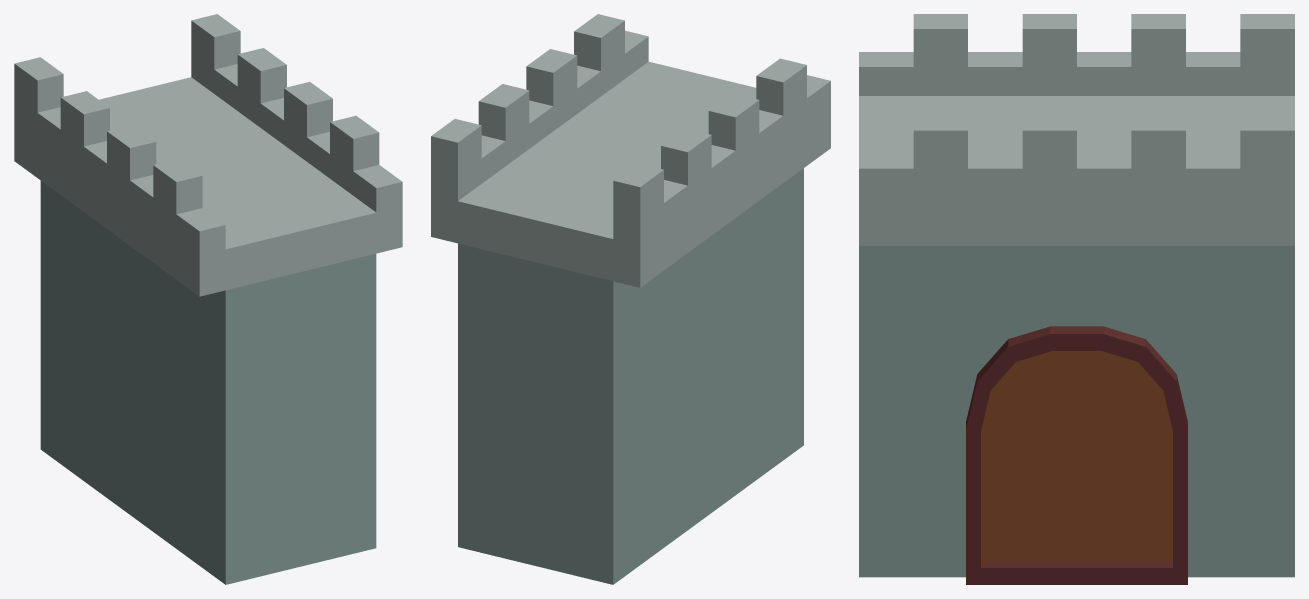
The model's file is WallWithDoor 1.fbx.
3 views of the same model, side by side, from view 1: azimuth 30°, elevation 25°; view 2: azimuth 150°, elevation 25°; view 3: azimuth 270°, elevation 25° (orthographic). The views are drawn at different scales.
Visible parts, largest first — view 1: Cube.002; view 2: Cube.002; view 3: Cube.002.
Boxes of the visible parts, x1,y1,x2,y2 form: Cube.002: (14,14,402,584); Cube.002: (431,14,830,584); Cube.002: (859,14,1294,584).
Size of the model in its own units: 131 by 242 by 207.
